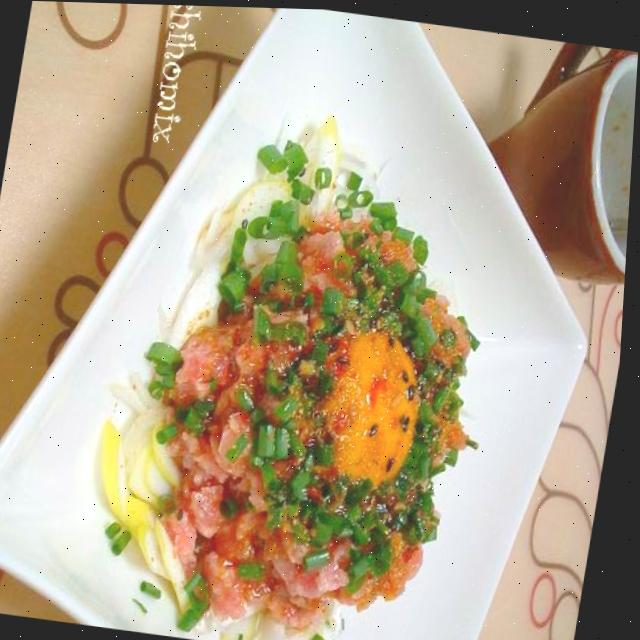熟制海鲜: (77, 102, 565, 640)
